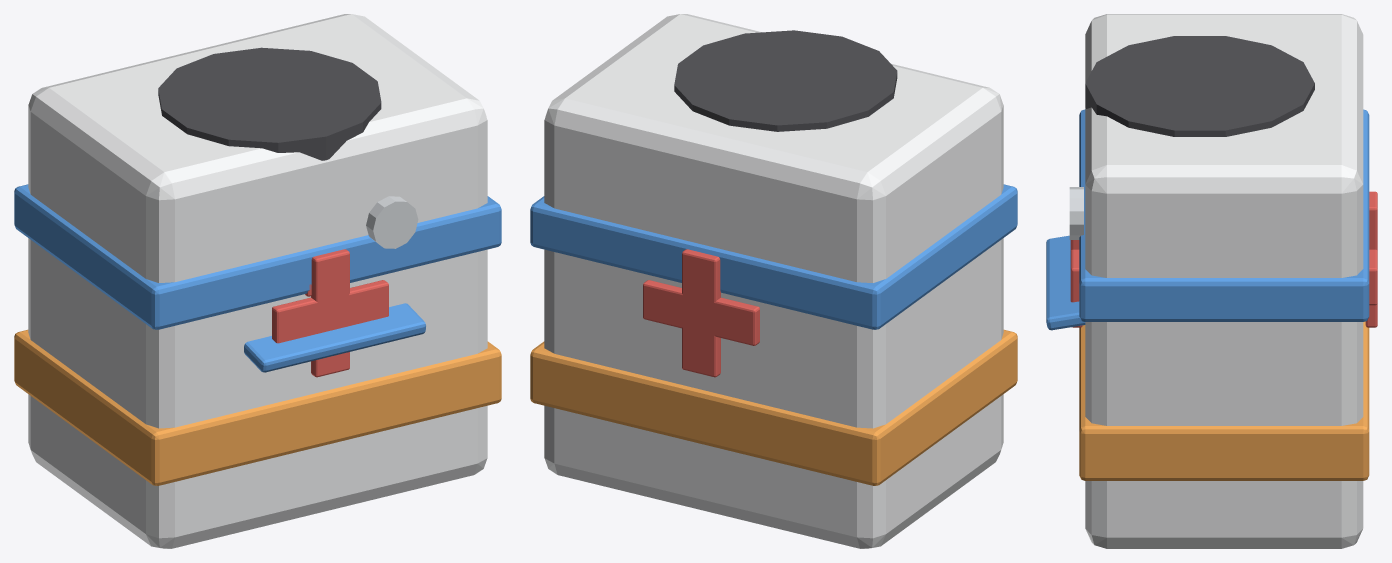
The model's file is SM_ResponderKit_Paramedic.fbx.
3 renders of one model, left to right at view 1: azimuth 30°, elevation 25°; view 2: azimuth 150°, elevation 25°; view 3: azimuth 270°, elevation 25°, orthographic.
Visible parts, largest first — view 1: ParamedicVest, ParamedicCap; view 2: ParamedicVest; view 3: ParamedicVest, ParamedicCap.
Boxes of the visible parts, <box> form: ParamedicVest: <box>14,14,501,548</box>; ParamedicCap: <box>244,284,425,372</box>; ParamedicVest: <box>530,14,1017,548</box>; ParamedicVest: <box>1069,14,1377,548</box>; ParamedicCap: <box>1046,235,1085,330</box>.
Bounding box in the file's own units: 34 × 27.43 × 35.6.
